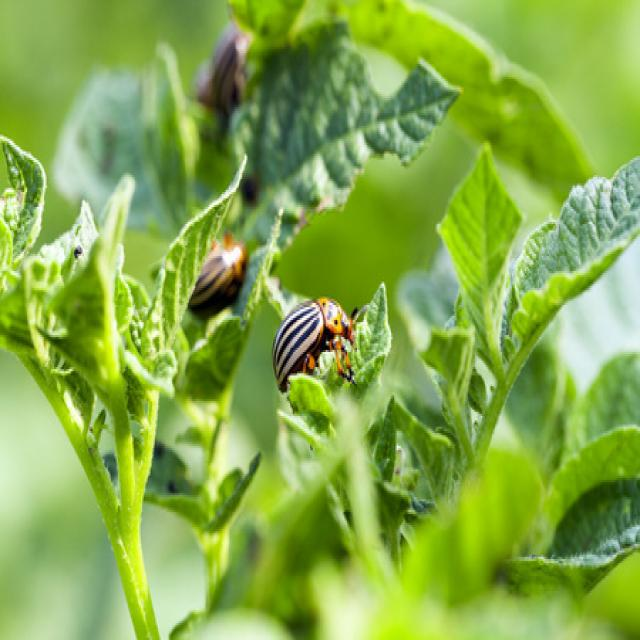ShuCaiHuaBanChong-Grown-: (270, 299, 361, 399), (185, 242, 256, 314)
